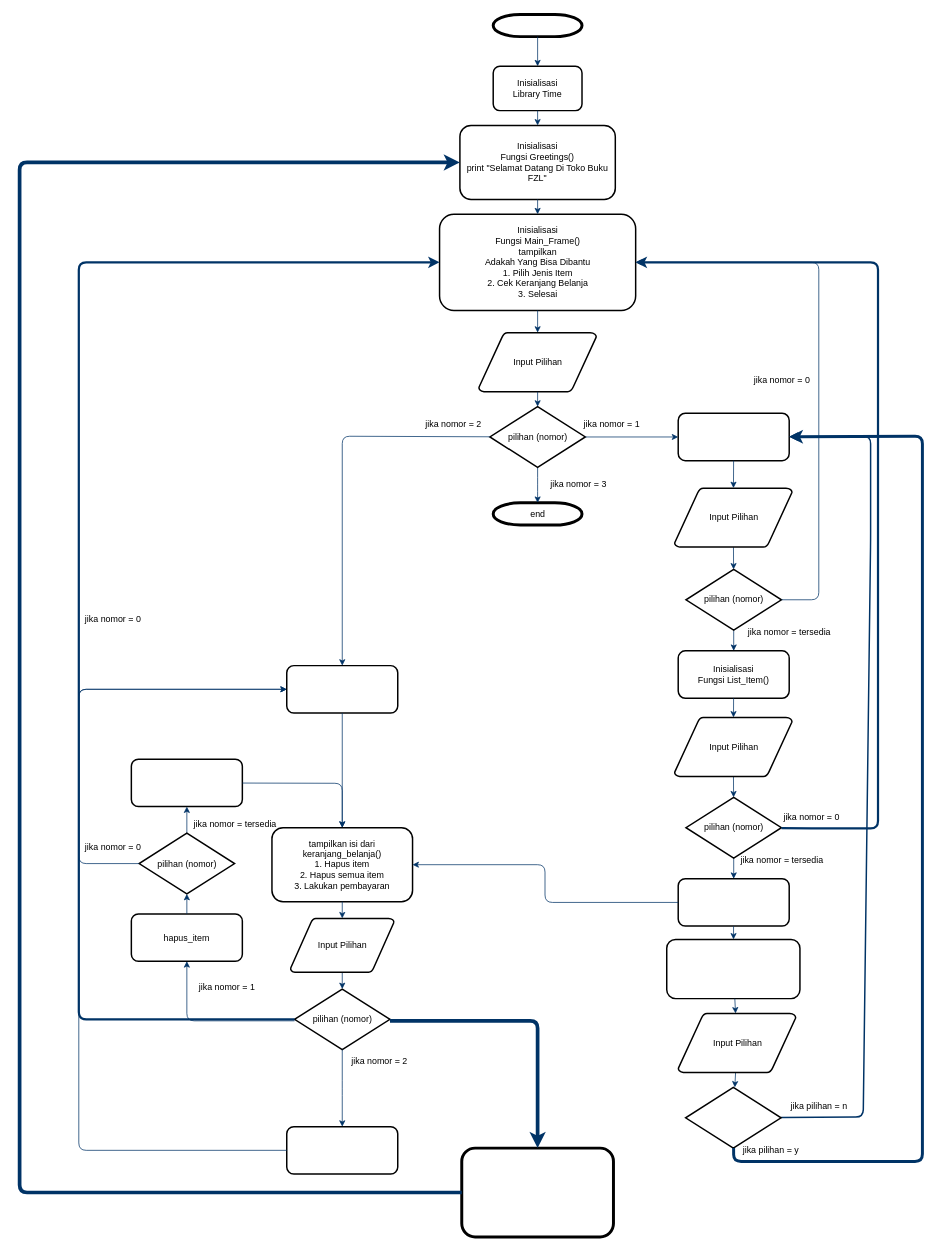
Image size: 943x1251. Some labels were removed from this diagram. Each missing label, with the box of its shape:
hapus salah satu item di keranjang_belanja(): (130, 758, 243, 807)
hapus_semua_item: (286, 1126, 398, 1174)
Ingin Menambahkan Item Ke Keranjang Belanja Lagi?: (666, 938, 800, 999)
Inisialisasi Fungsi Keranjang_Belanja(): (286, 665, 398, 713)
Inisialisasi Fungsi Pilih_Jenis_Item(): (677, 412, 790, 461)
Lakukan_pembayaran() Cetak Nota dalam bentuk txt: (460, 1146, 615, 1238)
Mulai: (491, 13, 583, 38)
pilihan y/n: (684, 1086, 781, 1148)
Tambahkan Item Ke Keranjang Belanja: (677, 878, 790, 926)
